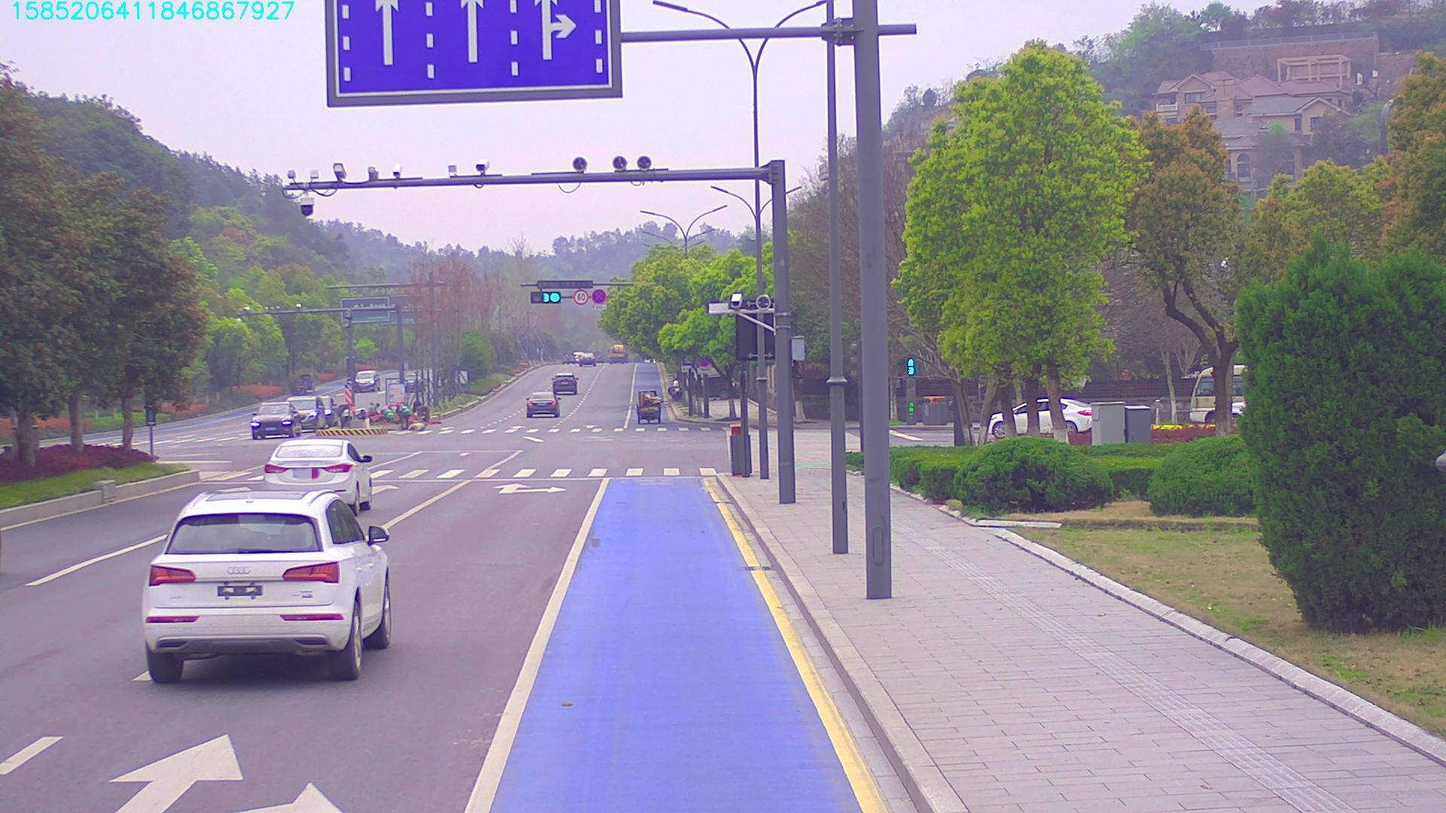green: (531, 288, 563, 301)
